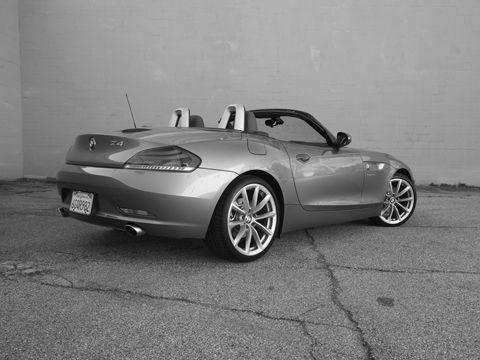car: (61, 105, 418, 265)
